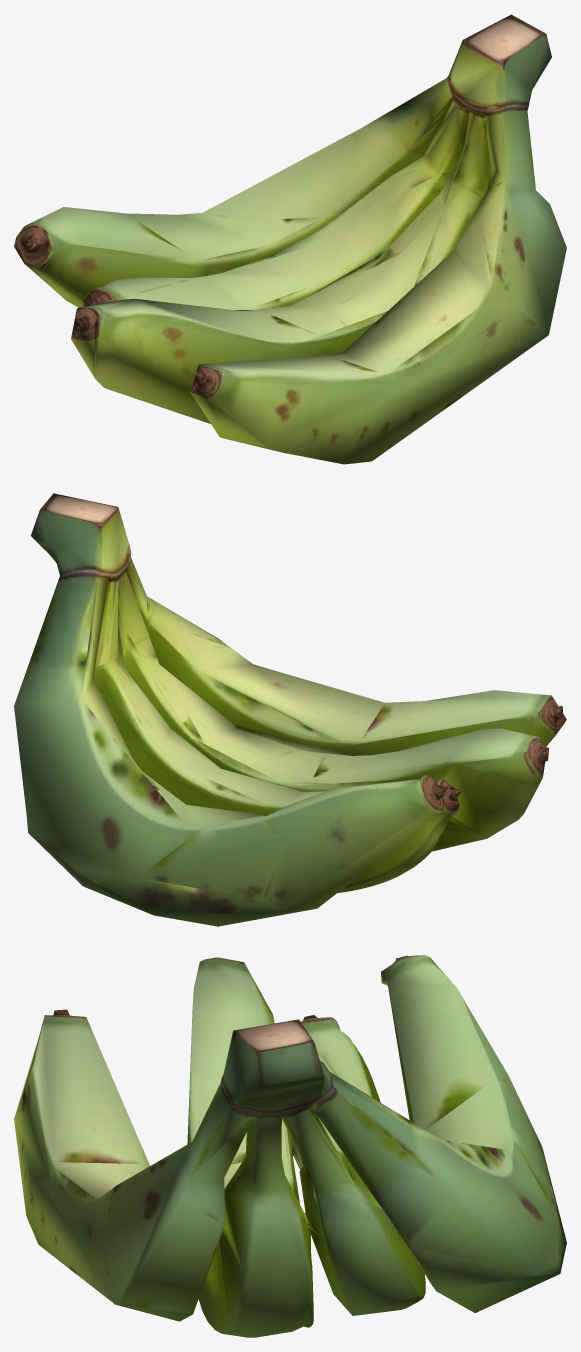
Rendered from plantain.glb.
3 renders of one model, top to bottom at view 1: azimuth 30°, elevation 25°; view 2: azimuth 150°, elevation 25°; view 3: azimuth 270°, elevation 25°, orthographic. The views are drawn at different scales.
Visible parts, largest first — view 1: node_0; view 2: node_0; view 3: node_0.
Boxes of the visible parts, x1,y1,x2,y2 form: node_0: (14, 14, 566, 464); node_0: (14, 493, 566, 926); node_0: (14, 955, 566, 1337).
Bounding box in the file's own units: 1.04 × 0.6497 × 0.8611.
Materials: 1 (1 with a texture image).
